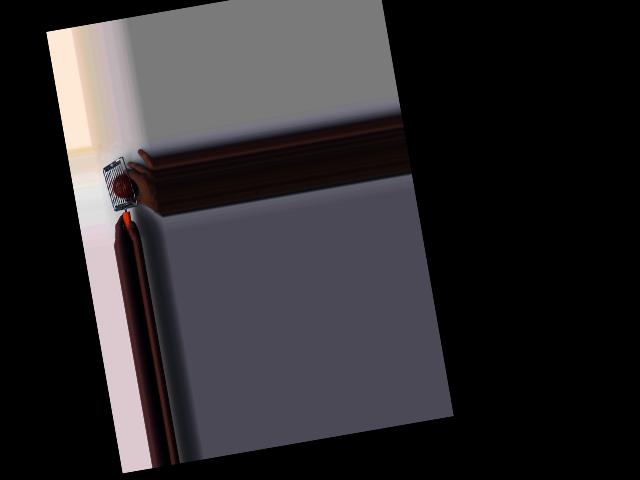tomato: (111, 173, 137, 200)
